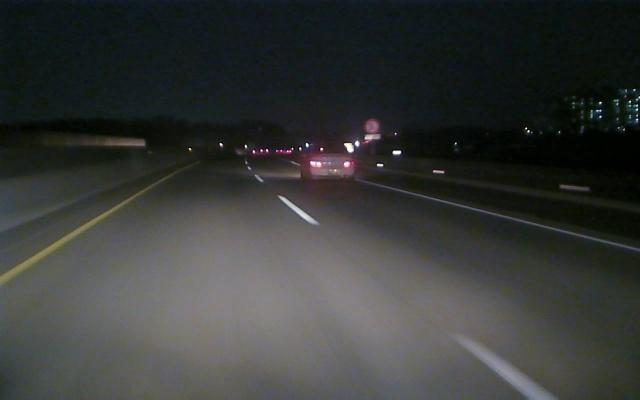lane: (245, 161, 558, 400), (366, 182, 638, 252), (1, 196, 136, 284)
